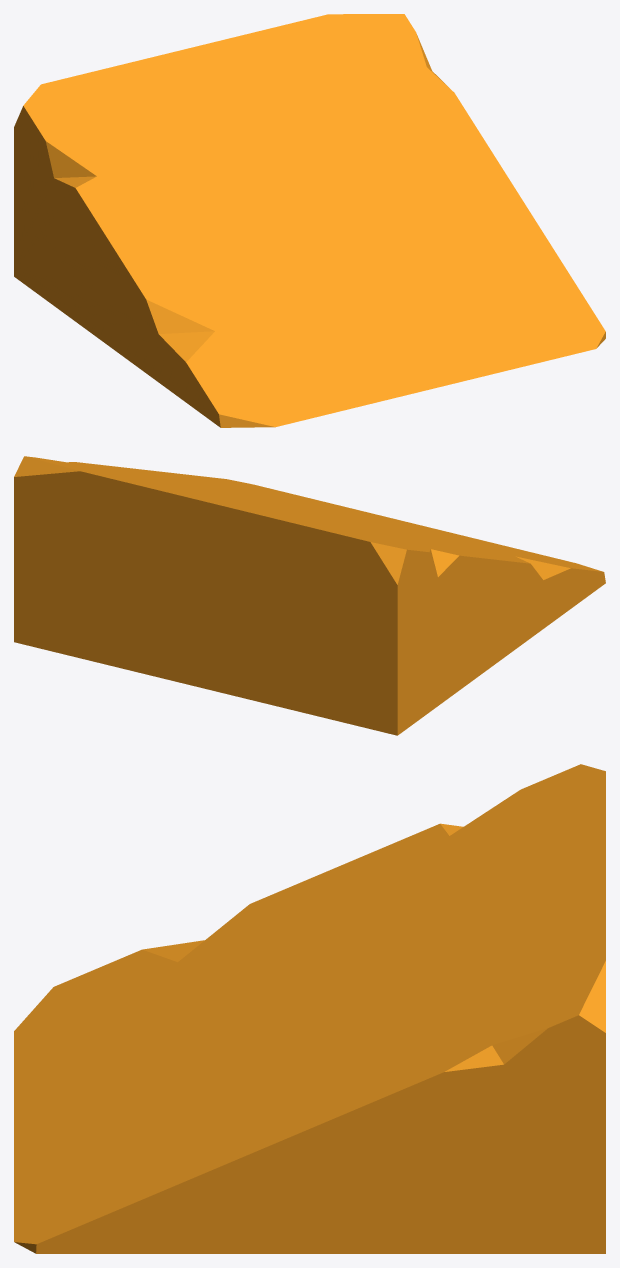
Rendered from SM_Buildings_Ramp_25_1x1_01P.fbx.
The picture shows the model from 3 angles, top to bottom: view 1: azimuth 30°, elevation 25°; view 2: azimuth 150°, elevation 25°; view 3: azimuth 270°, elevation 25°; orthographic projection. The views are drawn at different scales.
Parts seen in each view (by area): view 1: SM_Buildings_Ramp_25_1x1_01P; view 2: SM_Buildings_Ramp_25_1x1_01P; view 3: SM_Buildings_Ramp_25_1x1_01P.
Part boxes in pixels (x1,y1,x2,y2): SM_Buildings_Ramp_25_1x1_01P: (14, 14, 605, 427); SM_Buildings_Ramp_25_1x1_01P: (14, 456, 605, 735); SM_Buildings_Ramp_25_1x1_01P: (14, 764, 605, 1253).
Bounding box in the file's own units: 100 × 46.63 × 100.
